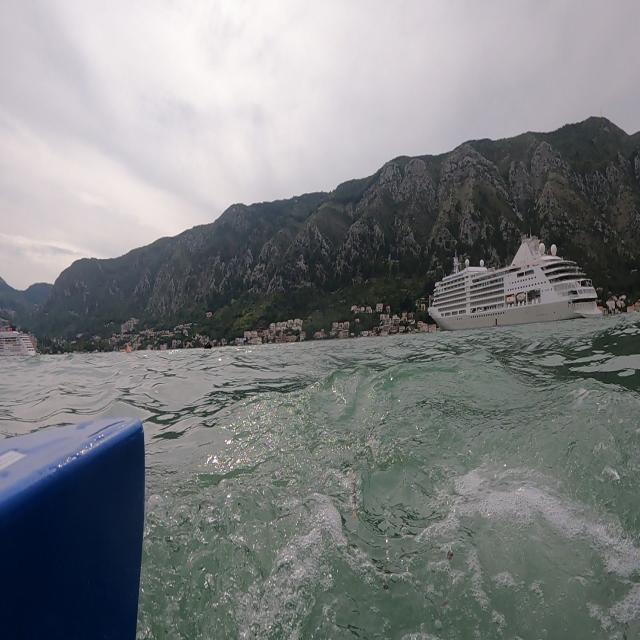boat: (425, 231, 620, 340), (0, 317, 45, 381)
